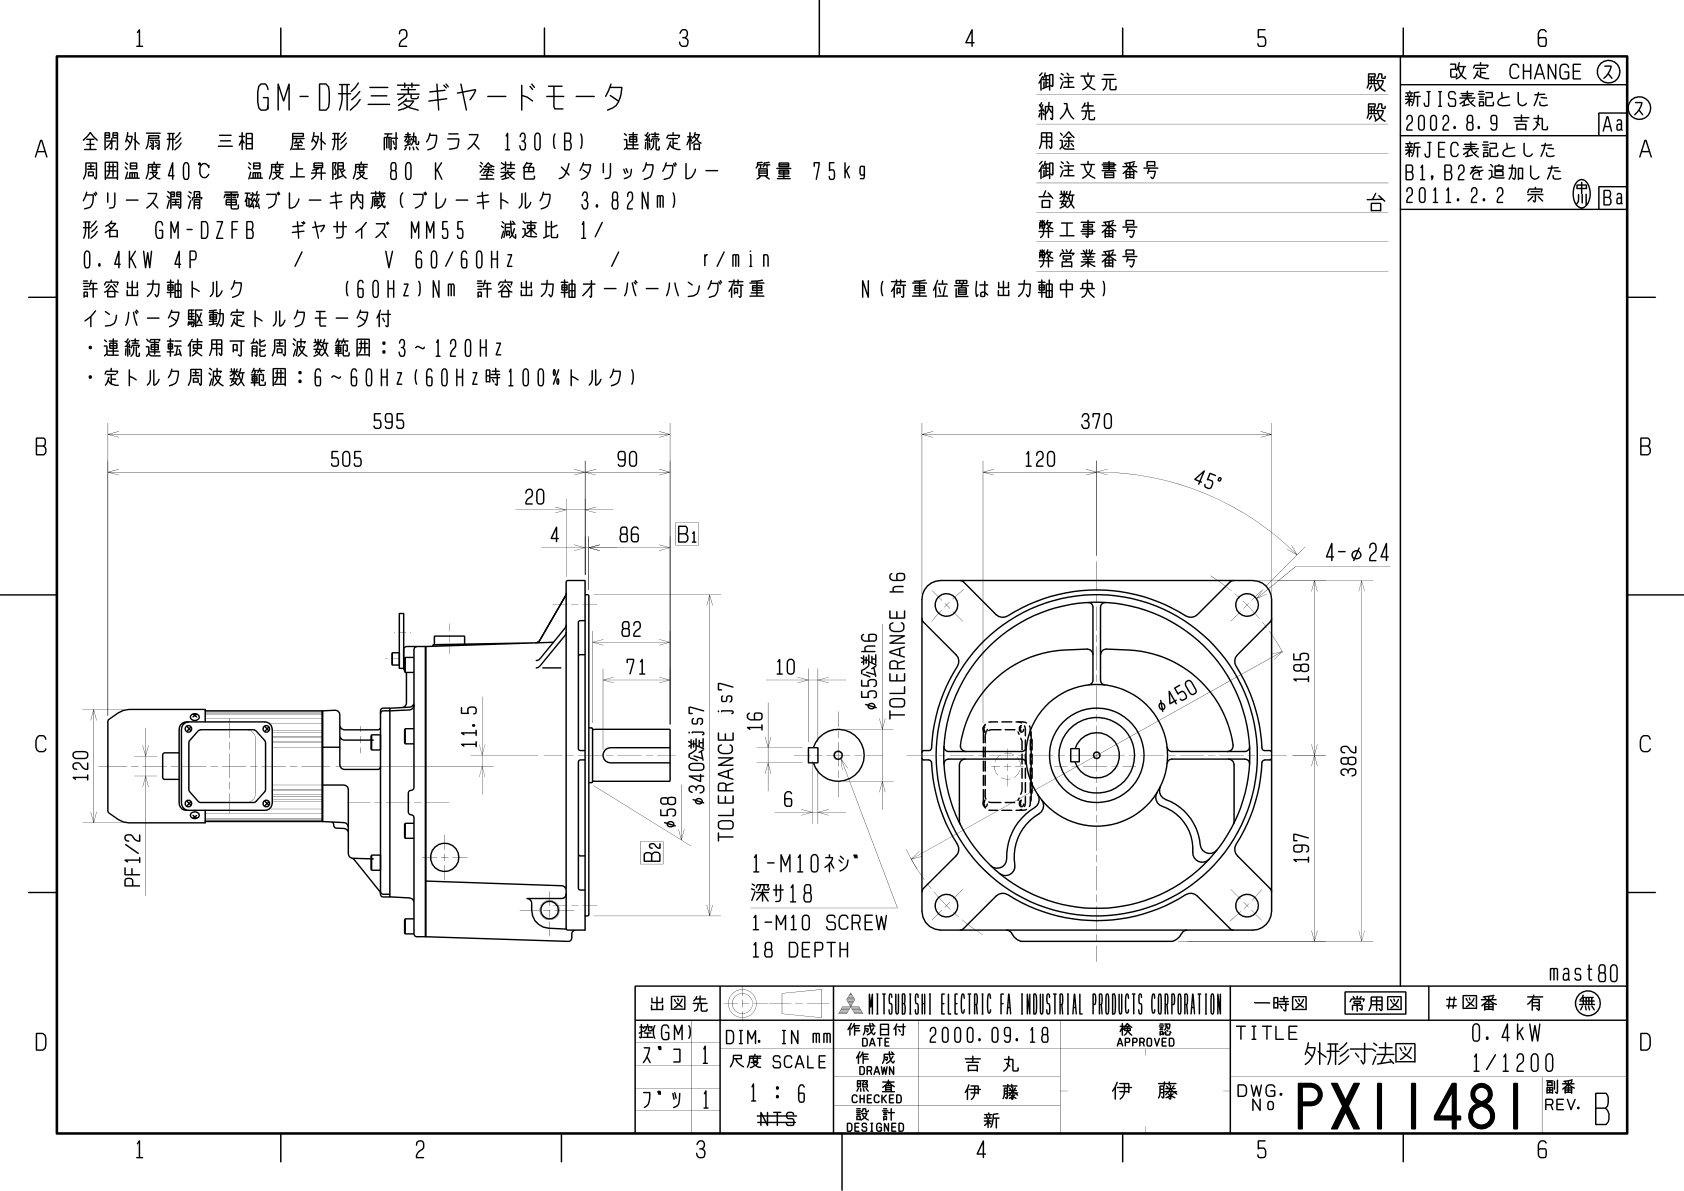GM_D_インバータ屋外_三相_フランジ: (8, 6, 1684, 1186)
